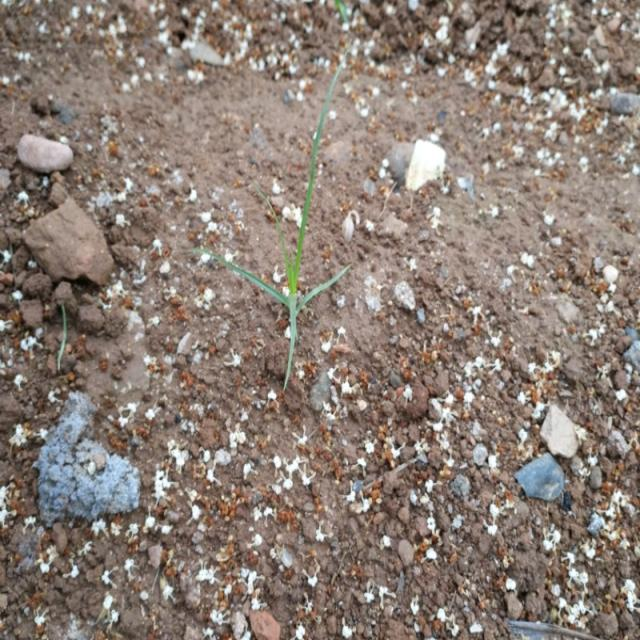sedge: (198, 76, 423, 469)
